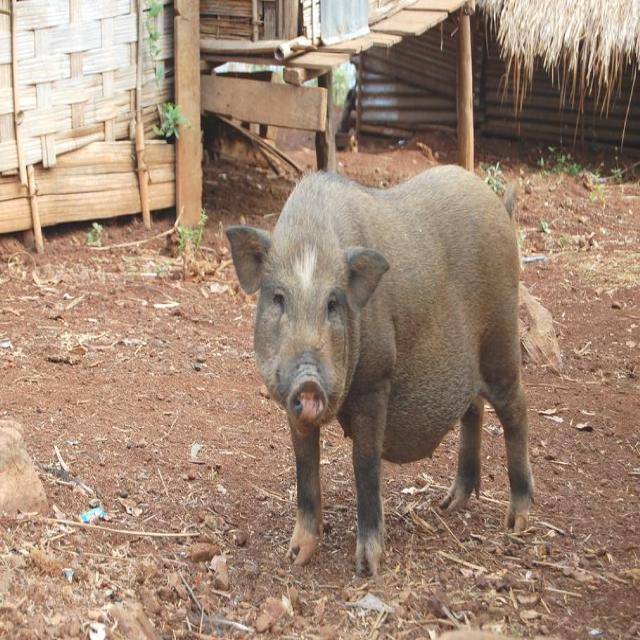pig: (228, 166, 534, 575)
